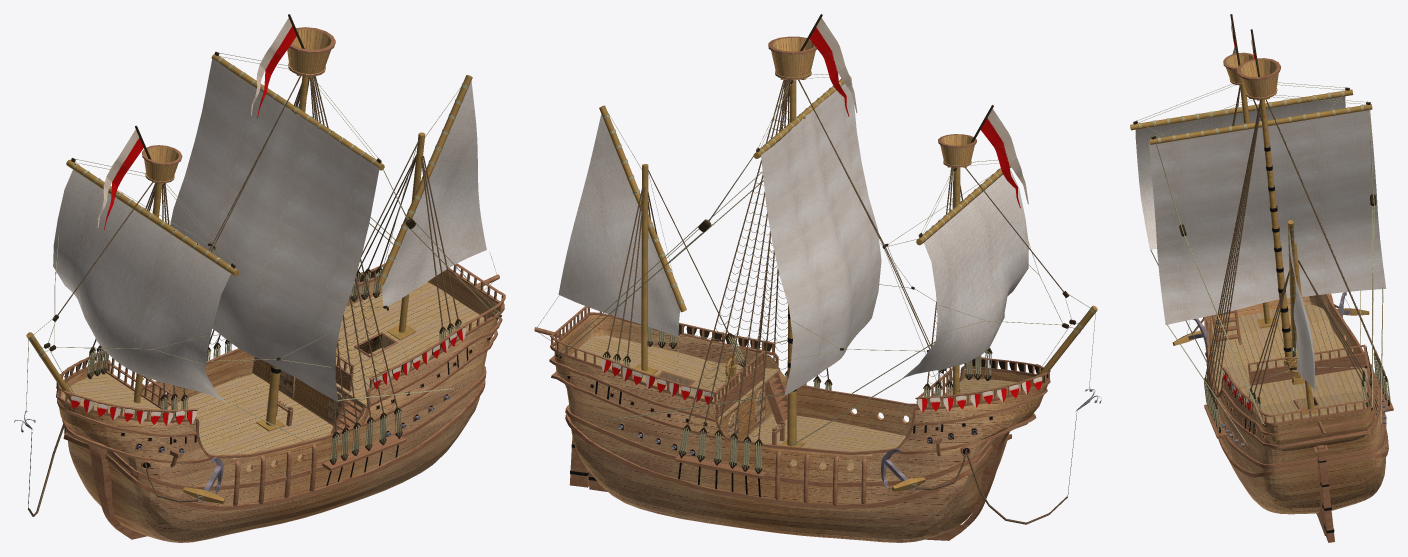
Rendered from henseatic_league_ship_c.glb.
3 renders of one model, left to right at view 1: azimuth 30°, elevation 25°; view 2: azimuth 150°, elevation 25°; view 3: azimuth 270°, elevation 25°, orthographic. The views are drawn at different scales.
Visible parts, largest first — view 1: sails_Material #1452_0, Ship_Material #53_0, Ship_Material #28_0, Ship_Material #27_0, Ship_Material #15_0, Ship_Material #55_0, Ship_Material #67_0, Ship_Material #741_0, flags_Material #1468_0, Ship_Material #80_0, Ship_Material #1037_0, Ship_Material #40_0 (+1 smaller); view 2: sails_Material #1452_0, Ship_Material #53_0, Ship_Material #28_0, Ship_Material #67_0, Ship_Material #27_0, Ship_Material #15_0, Ship_Material #55_0, flags_Material #1468_0, Ship_Material #80_0, Ship_Material #741_0, Ship_Material #1037_0, Ship_Material #40_0 (+1 smaller); view 3: sails_Material #1452_0, Ship_Material #53_0, Ship_Material #28_0, Ship_Material #27_0, Ship_Material #15_0, Ship_Material #67_0, Ship_Material #55_0, Ship_Material #741_0, Ship_Material #80_0, Ship_Material #3_0.
Part boxes in pixels (bbox=[...]): sails_Material #1452_0: bbox=[53, 58, 486, 404]; Ship_Material #53_0: bbox=[58, 269, 499, 542]; Ship_Material #28_0: bbox=[57, 27, 505, 539]; Ship_Material #27_0: bbox=[61, 282, 484, 470]; Ship_Material #15_0: bbox=[26, 54, 472, 503]; Ship_Material #55_0: bbox=[25, 51, 501, 497]; Ship_Material #67_0: bbox=[28, 75, 458, 516]; Ship_Material #741_0: bbox=[144, 29, 336, 350]; flags_Material #1468_0: bbox=[97, 18, 296, 229]; Ship_Material #80_0: bbox=[44, 14, 501, 464]; Ship_Material #1037_0: bbox=[56, 327, 465, 425]; Ship_Material #40_0: bbox=[252, 357, 366, 430]; sails_Material #1452_0: bbox=[558, 77, 1028, 395]; Ship_Material #53_0: bbox=[554, 315, 1047, 542]; Ship_Material #28_0: bbox=[534, 36, 1050, 540]; Ship_Material #67_0: bbox=[607, 79, 1067, 524]; Ship_Material #27_0: bbox=[571, 335, 1020, 469]; Ship_Material #15_0: bbox=[599, 75, 1097, 491]; Ship_Material #55_0: bbox=[537, 74, 1096, 484]; flags_Material #1468_0: bbox=[809, 18, 1028, 208]; Ship_Material #80_0: bbox=[556, 14, 1075, 473]; Ship_Material #741_0: bbox=[726, 38, 974, 377]; Ship_Material #1037_0: bbox=[601, 359, 1042, 412]; Ship_Material #40_0: bbox=[719, 369, 778, 439]; sails_Material #1452_0: bbox=[1135, 96, 1386, 396]; Ship_Material #53_0: bbox=[1205, 294, 1385, 514]; Ship_Material #28_0: bbox=[1204, 52, 1393, 542]; Ship_Material #27_0: bbox=[1211, 305, 1368, 422]; Ship_Material #15_0: bbox=[1130, 85, 1372, 414]; Ship_Material #67_0: bbox=[1191, 85, 1385, 403]; Ship_Material #55_0: bbox=[1133, 82, 1390, 445]; Ship_Material #741_0: bbox=[1226, 54, 1298, 373]; Ship_Material #80_0: bbox=[1133, 14, 1389, 432]; Ship_Material #3_0: bbox=[1188, 292, 1386, 446].
Bounding box in the file's own units: 57.48 × 52.32 × 29.08.
Materials: 21 (19 with a texture image).
